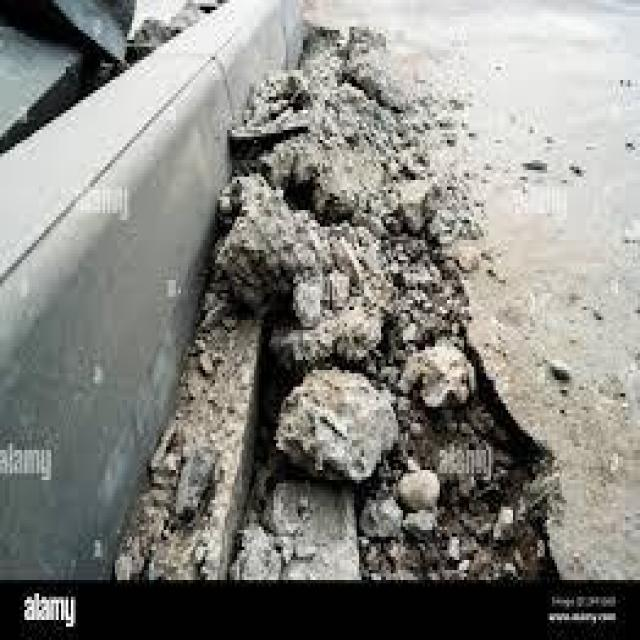curb: (6, 48, 236, 579)
